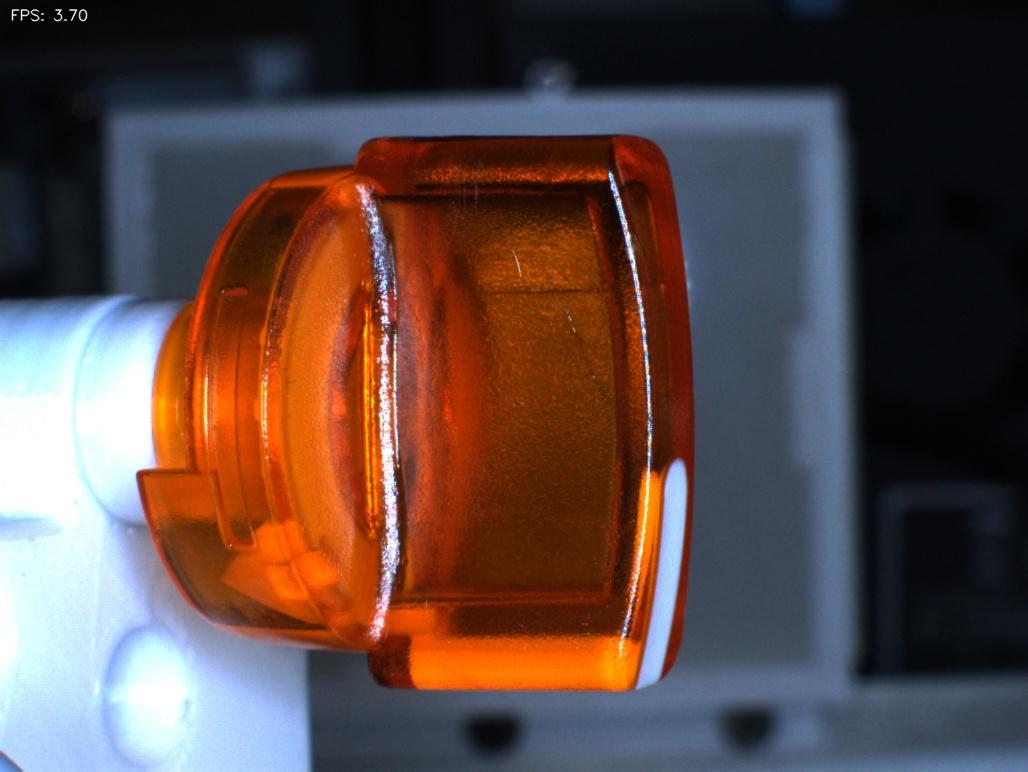Givrage: (469, 182, 599, 372)
